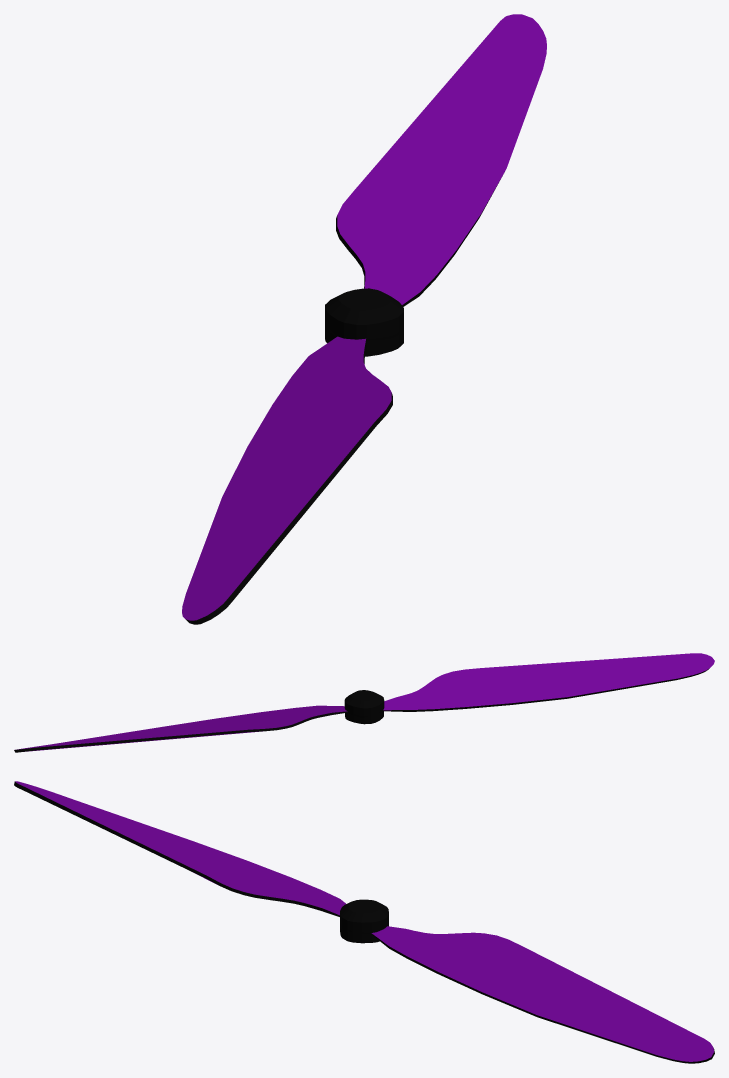
Rendered from BladeLevel1.fbx.
The picture shows the model from 3 angles, top to bottom: view 1: azimuth 30°, elevation 25°; view 2: azimuth 150°, elevation 25°; view 3: azimuth 270°, elevation 25°; orthographic projection. The views are drawn at different scales.
Visible parts, largest first — view 1: BladeLevel1; view 2: BladeLevel1; view 3: BladeLevel1.
Boxes of the visible parts, x1,y1,x2,y2 form: BladeLevel1: (182, 14, 546, 624); BladeLevel1: (14, 653, 714, 752); BladeLevel1: (14, 781, 714, 1063).
Size of the model in its own units: 108 by 4.81 by 115.
